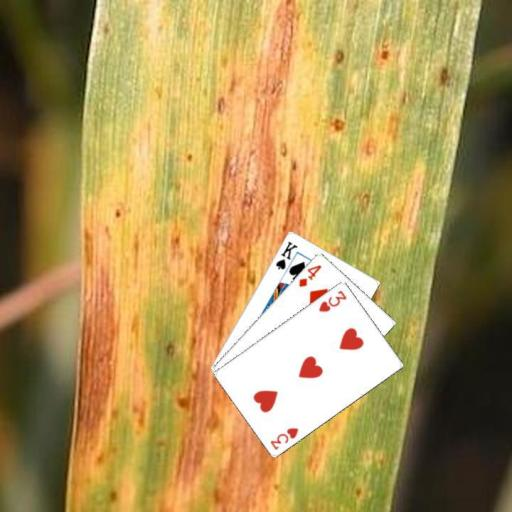3H: (267, 424, 300, 451), (316, 287, 348, 314)
4D: (296, 261, 323, 288)
KS: (272, 237, 299, 271)
